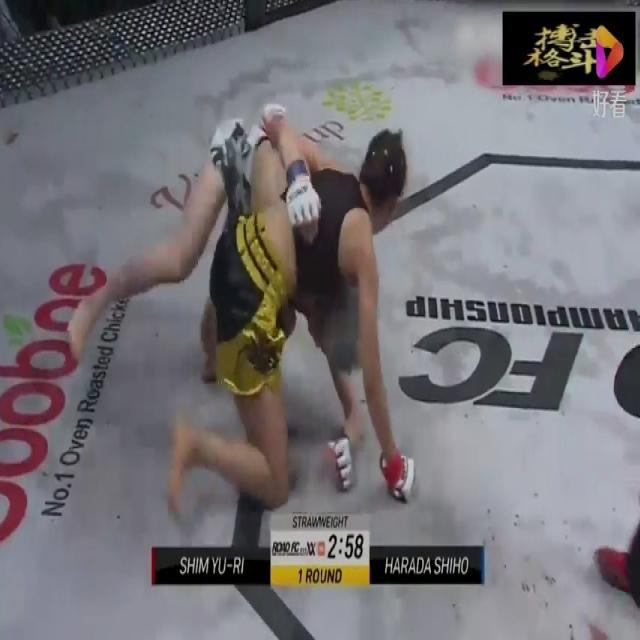fight: (63, 89, 421, 555)
